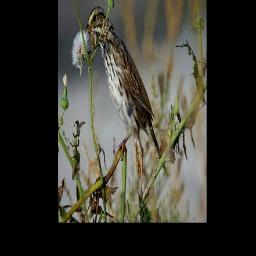Sparrow: (84, 4, 167, 173)
